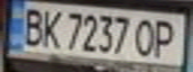2: (78, 10, 100, 53)
3: (96, 11, 115, 54)
7: (60, 9, 84, 51), (112, 12, 133, 55)
B: (18, 4, 48, 47)
K: (36, 6, 63, 48)
O: (133, 16, 160, 57)
P: (148, 16, 184, 60)
